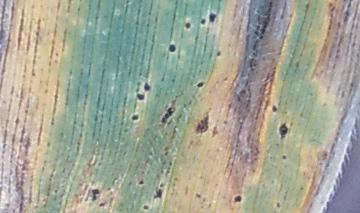tarspot: (196, 116, 209, 134), (278, 121, 289, 141), (160, 107, 174, 121), (90, 187, 100, 202), (153, 188, 164, 199), (208, 11, 217, 23), (135, 90, 144, 101), (167, 43, 177, 52), (143, 81, 151, 92), (130, 113, 139, 122), (195, 80, 205, 87), (271, 103, 277, 114), (98, 200, 106, 208), (233, 194, 241, 202), (142, 204, 150, 211), (194, 191, 202, 198), (199, 17, 206, 25), (275, 199, 281, 208), (137, 179, 145, 185), (279, 154, 288, 159), (216, 50, 222, 57), (52, 188, 59, 194), (186, 21, 191, 29), (158, 182, 164, 188), (164, 150, 170, 156)
